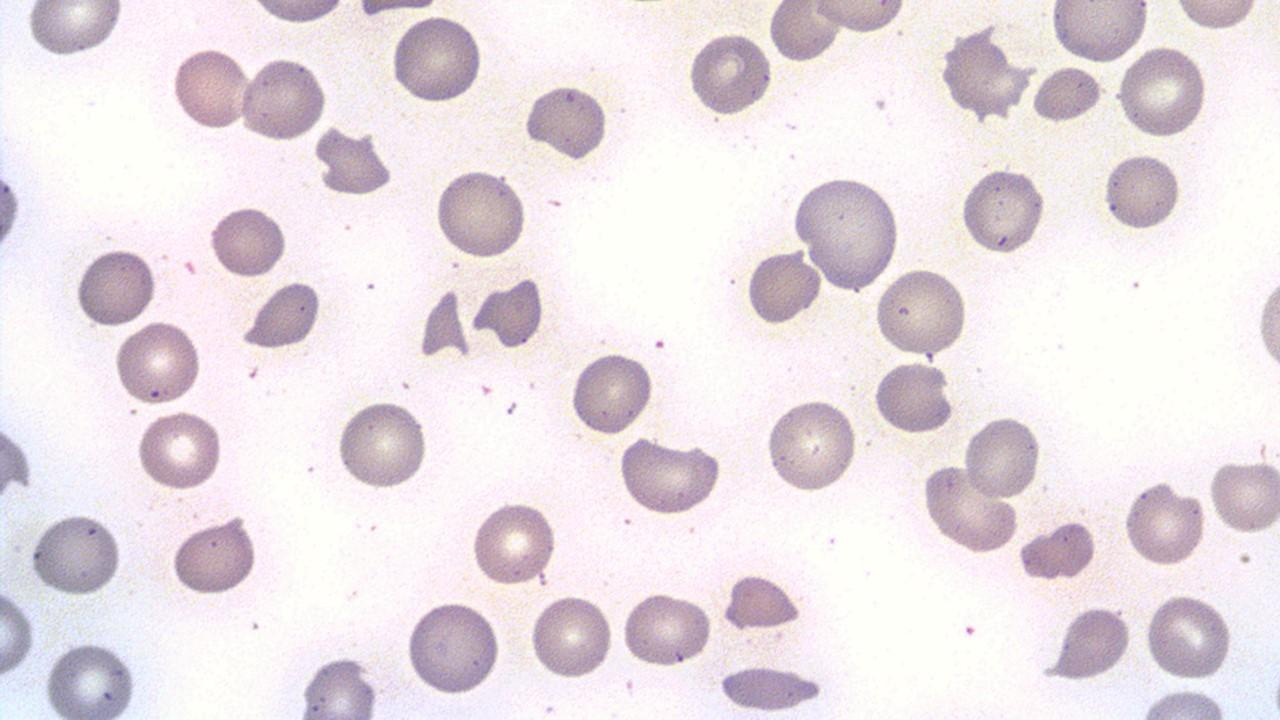RBC: (356, 236, 690, 692), (822, 0, 1277, 330), (1, 0, 454, 328), (10, 195, 310, 604), (792, 173, 904, 294), (402, 597, 502, 698), (764, 395, 860, 494), (919, 461, 1021, 554), (432, 165, 530, 261), (871, 266, 971, 360), (1114, 43, 1210, 140), (334, 396, 430, 493), (388, 11, 484, 107), (617, 432, 726, 516), (27, 508, 126, 600), (940, 26, 1033, 122), (1143, 590, 1235, 684), (468, 495, 559, 589), (526, 590, 616, 683), (112, 318, 204, 408), (42, 636, 142, 718), (960, 163, 1047, 256), (1120, 477, 1208, 568), (686, 29, 774, 120), (240, 53, 328, 144), (134, 406, 224, 493), (568, 348, 655, 438), (168, 512, 258, 598), (620, 587, 714, 669), (1040, 602, 1136, 682), (171, 44, 253, 135), (522, 78, 608, 164), (73, 243, 158, 329), (962, 412, 1042, 501), (1102, 149, 1182, 234), (1047, 1, 1151, 65), (744, 246, 822, 328), (871, 359, 954, 436), (239, 279, 324, 354), (714, 662, 828, 717), (208, 202, 288, 280), (312, 125, 397, 197), (24, 1, 127, 60), (1208, 453, 1280, 536), (1018, 514, 1098, 584), (296, 653, 380, 717), (719, 571, 804, 634), (767, 1, 844, 65), (1030, 63, 1104, 125), (1254, 252, 1280, 396), (0, 578, 36, 682), (809, 0, 911, 35), (1137, 685, 1233, 719), (0, 145, 24, 273), (1171, 0, 1261, 31), (247, 0, 350, 27)
WBC: (710, 0, 1271, 372), (1016, 516, 1100, 582)
